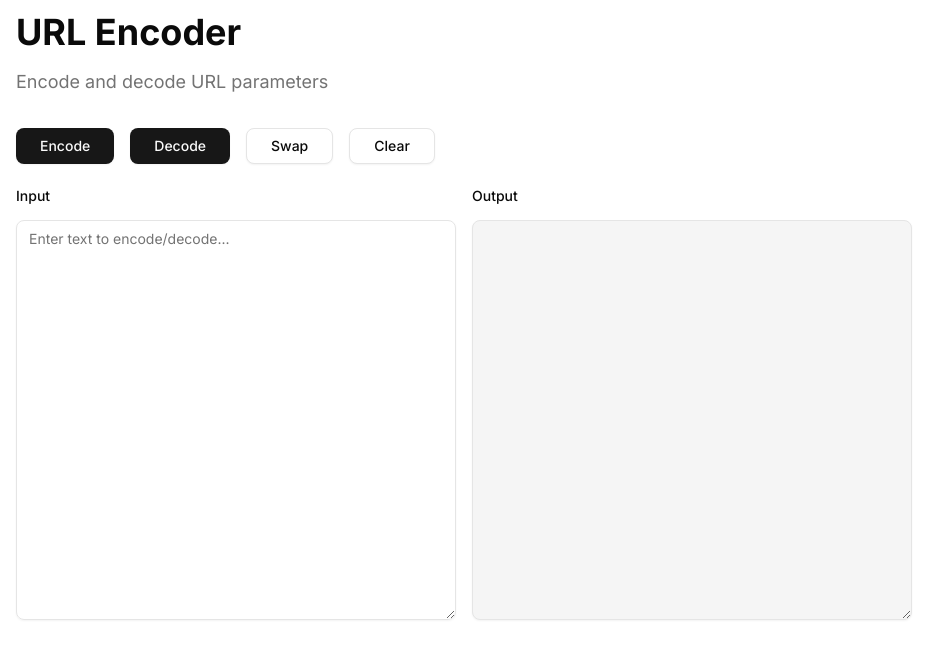
Test: UrlEncoder › handles invalid URL encoded string when decoding
Step 1. Type "%E0%A4%A" into the text box with placeholder "Enter text to encode/decode..." → (236, 420), box [16,220,456,620]
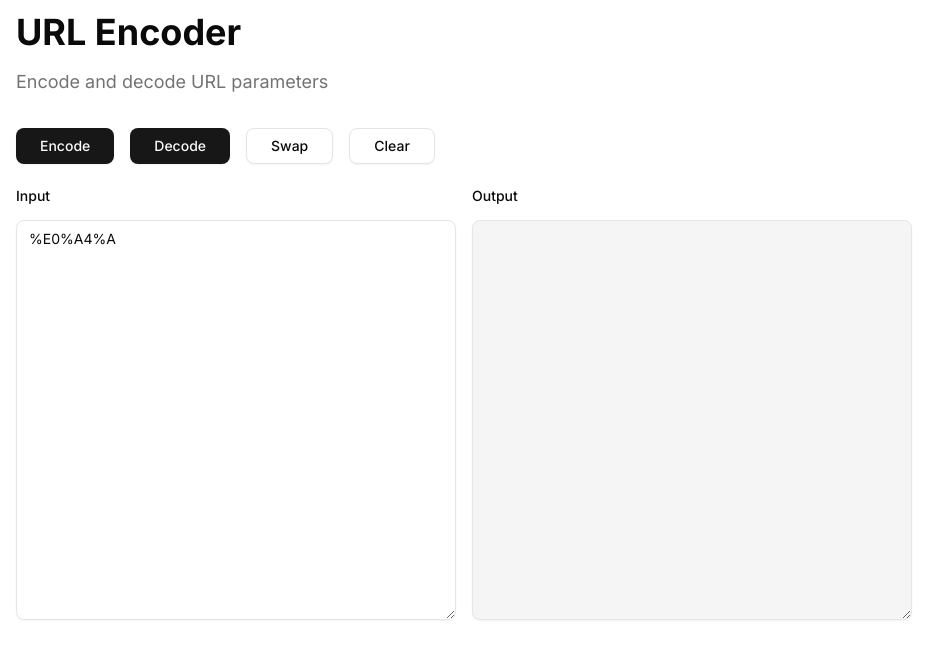
Step 2. Click the button "Decode" → (180, 146), box [130,128,230,164]
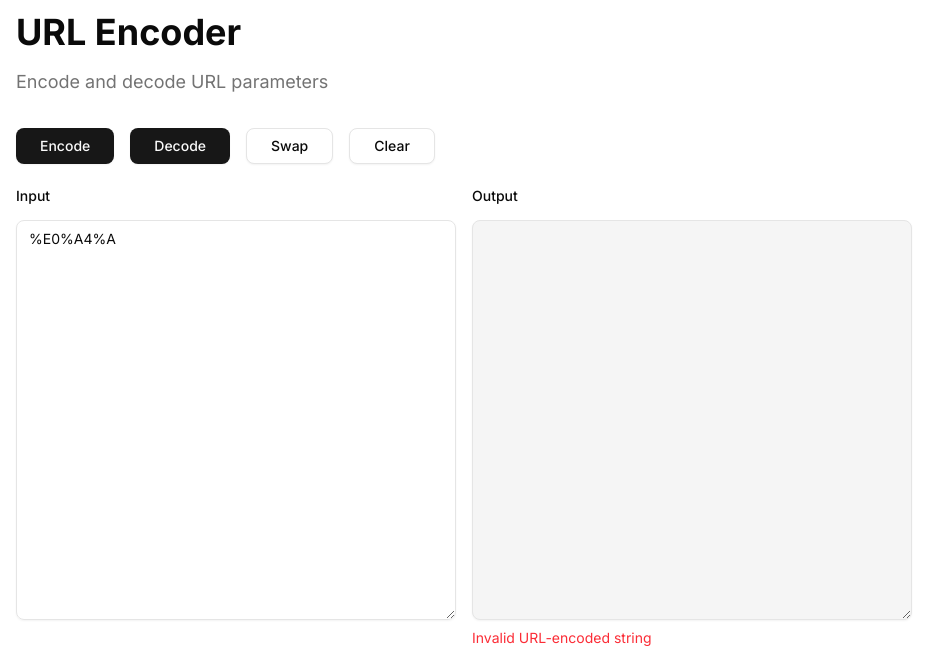
Now the text "Invalid URL-encoded string" is shown, box [472,629,652,646]
